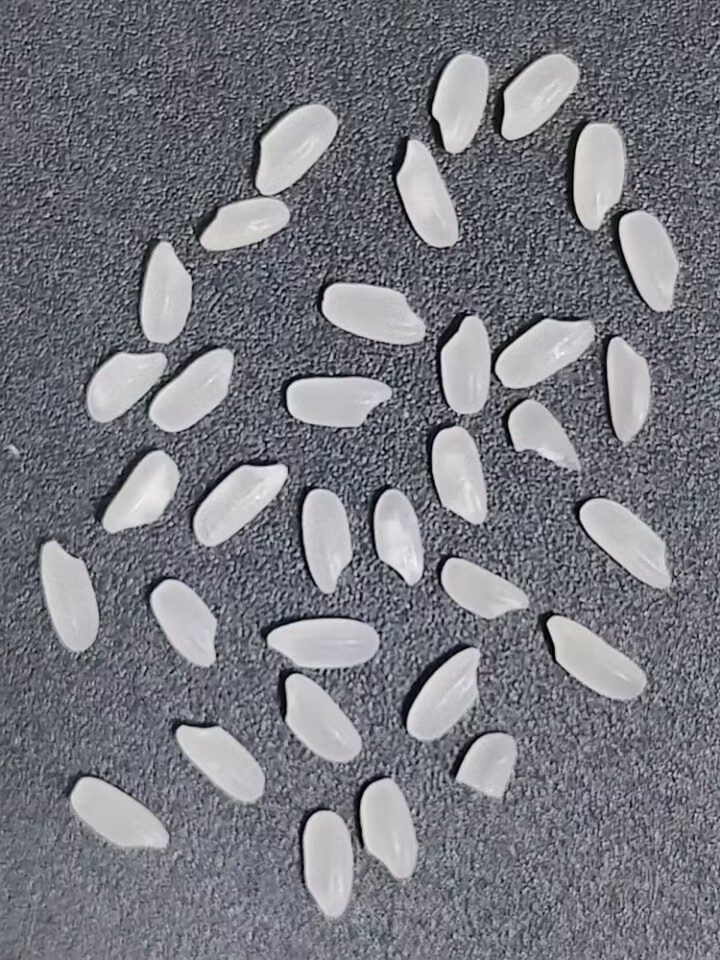broken: (507, 400, 582, 473), (456, 733, 516, 797)
rice: (187, 458, 294, 549), (578, 497, 678, 590), (491, 311, 597, 397), (245, 103, 342, 195), (388, 138, 464, 253), (32, 540, 106, 657), (167, 719, 271, 802), (546, 615, 646, 701), (401, 641, 486, 742), (150, 342, 237, 438), (494, 52, 582, 146), (275, 674, 367, 763), (314, 276, 430, 344), (144, 577, 221, 678), (429, 311, 497, 423), (69, 776, 172, 849), (293, 486, 359, 599), (615, 208, 685, 314), (79, 345, 167, 429), (425, 424, 494, 529), (134, 239, 199, 350), (260, 616, 386, 672), (100, 448, 180, 535), (569, 119, 631, 231), (364, 486, 428, 592), (431, 49, 492, 154), (603, 337, 661, 447), (283, 375, 399, 430), (195, 195, 293, 258), (360, 779, 417, 881), (302, 810, 354, 918), (441, 557, 530, 620)
